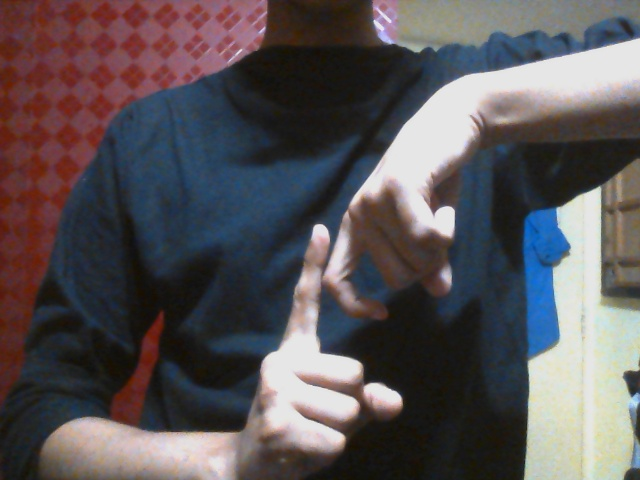K: (250, 169, 455, 472)
